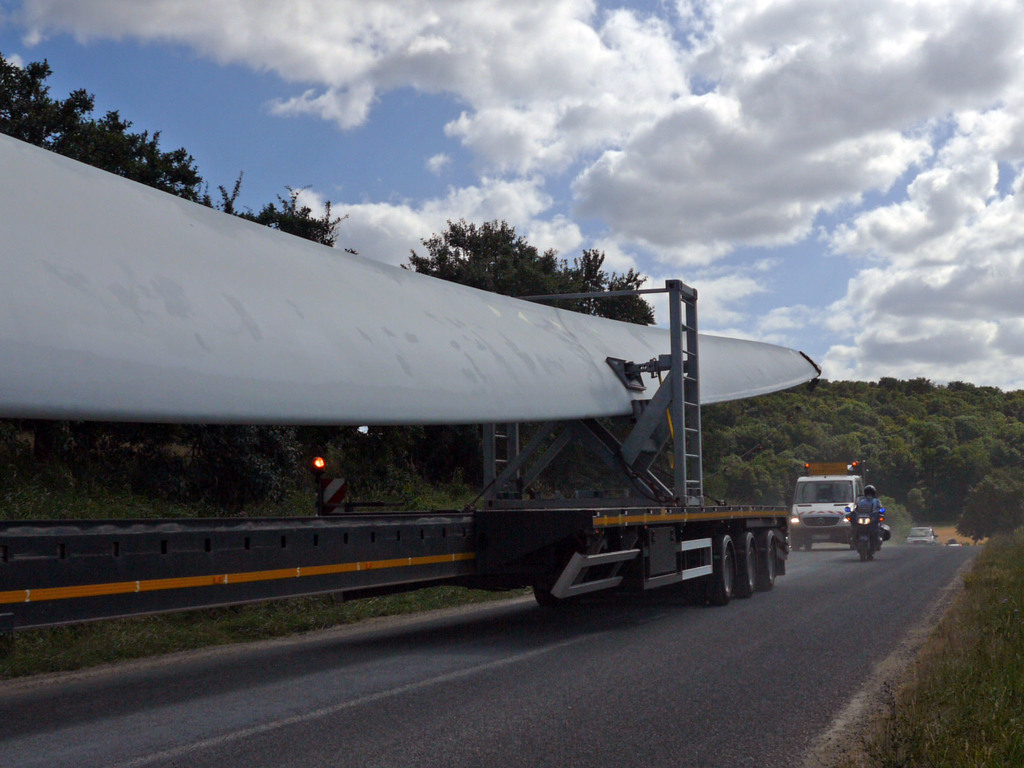Car: (904, 524, 938, 543), (947, 543, 958, 547)
